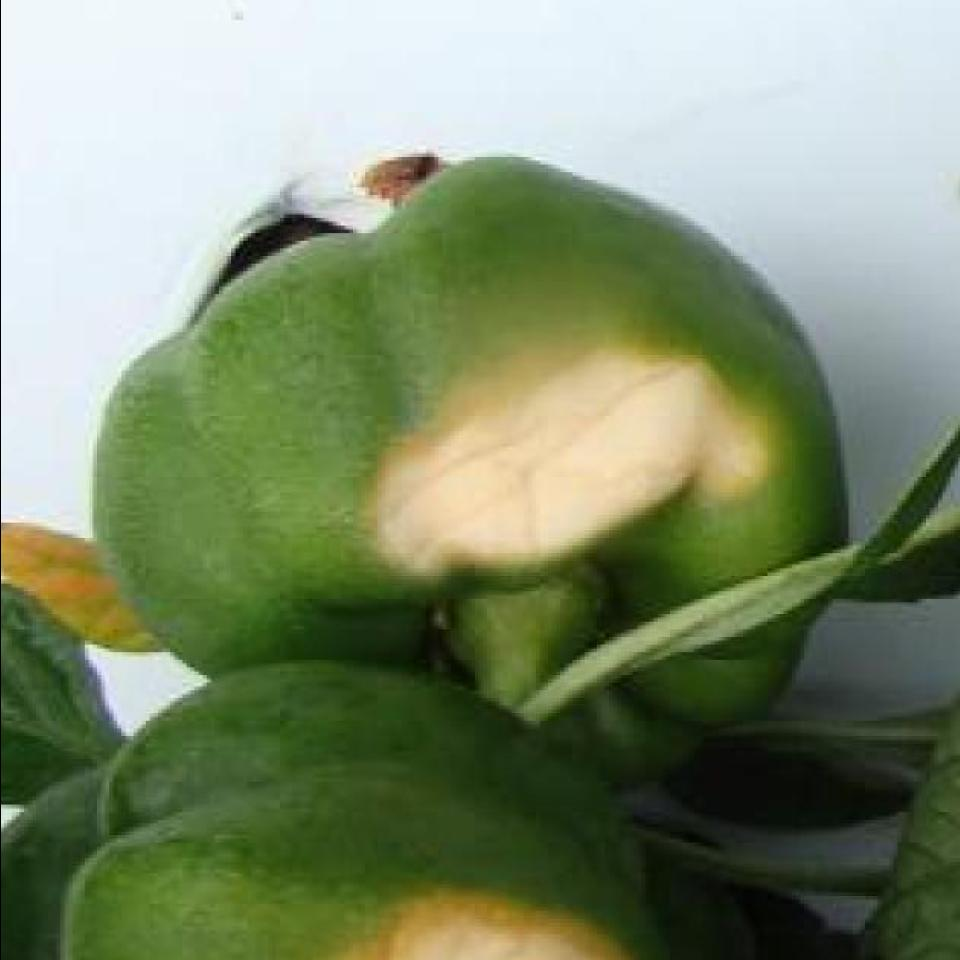Sunscald: (319, 324, 787, 576), (345, 904, 637, 960)
